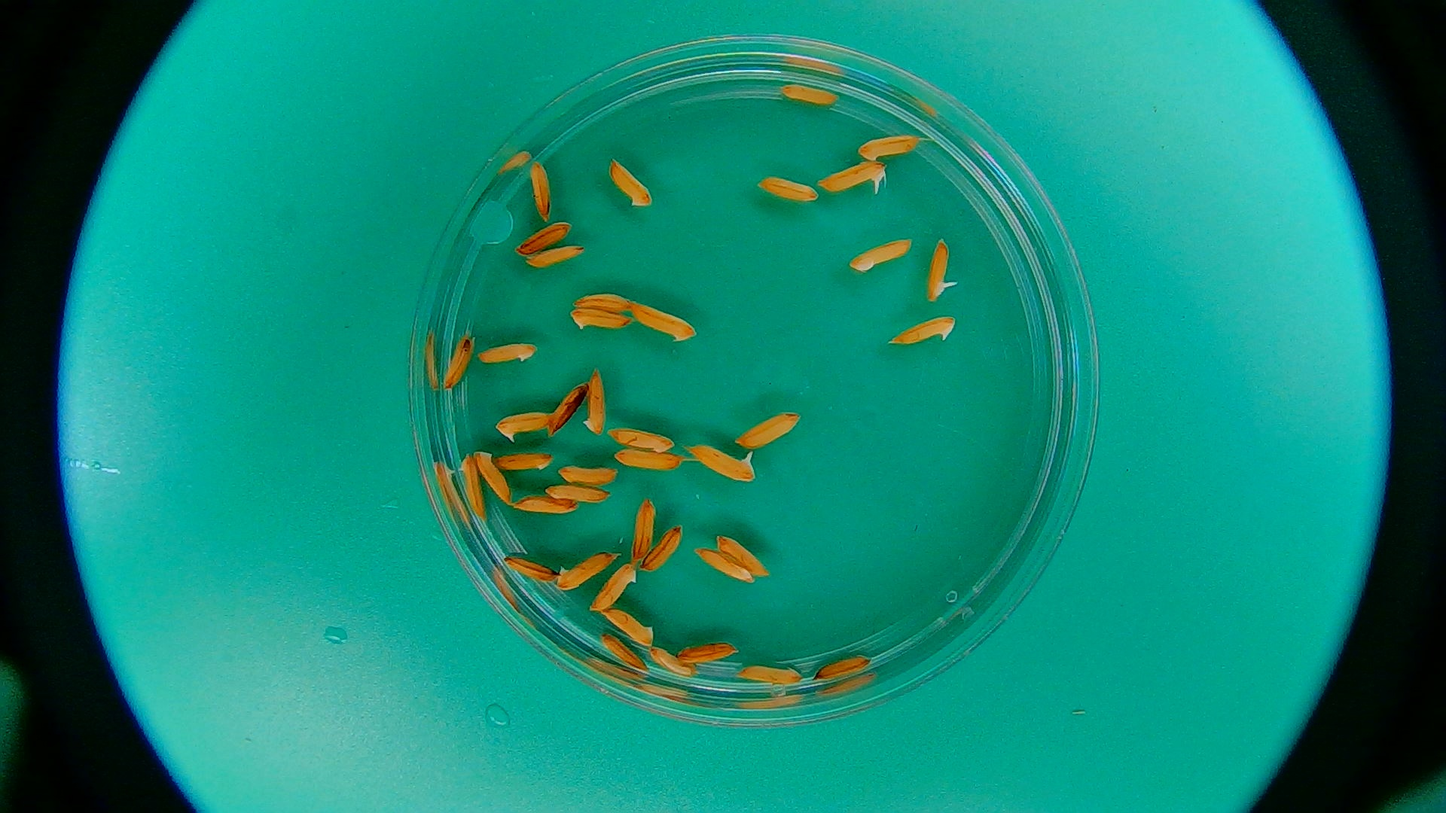no: (556, 537, 624, 590), (886, 308, 958, 358), (627, 297, 695, 344), (603, 154, 655, 215), (712, 529, 769, 584), (837, 239, 919, 277), (734, 407, 801, 452), (693, 544, 758, 588), (473, 336, 541, 377), (499, 547, 563, 590), (563, 302, 630, 343), (507, 218, 577, 256), (588, 562, 639, 614), (646, 638, 714, 677), (636, 518, 684, 573), (734, 649, 802, 687), (671, 630, 739, 668), (474, 448, 518, 505), (599, 606, 656, 650), (811, 642, 868, 686), (566, 283, 638, 317), (755, 178, 827, 212), (776, 74, 847, 108), (856, 129, 927, 163), (597, 634, 654, 676), (456, 451, 488, 524), (438, 334, 475, 391), (628, 498, 659, 566), (524, 160, 554, 227), (581, 368, 609, 438), (507, 492, 578, 519), (538, 483, 609, 510), (554, 459, 625, 486), (611, 446, 682, 473), (612, 427, 682, 454), (550, 384, 587, 433), (524, 245, 589, 271)
yes: (688, 443, 756, 480), (819, 160, 886, 195), (493, 406, 561, 439), (928, 234, 955, 297)
